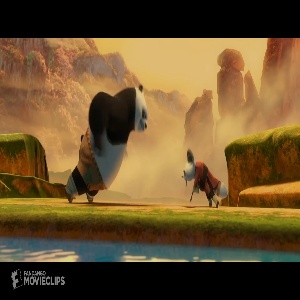po: (62, 79, 151, 204)
shifu: (176, 148, 231, 210)
